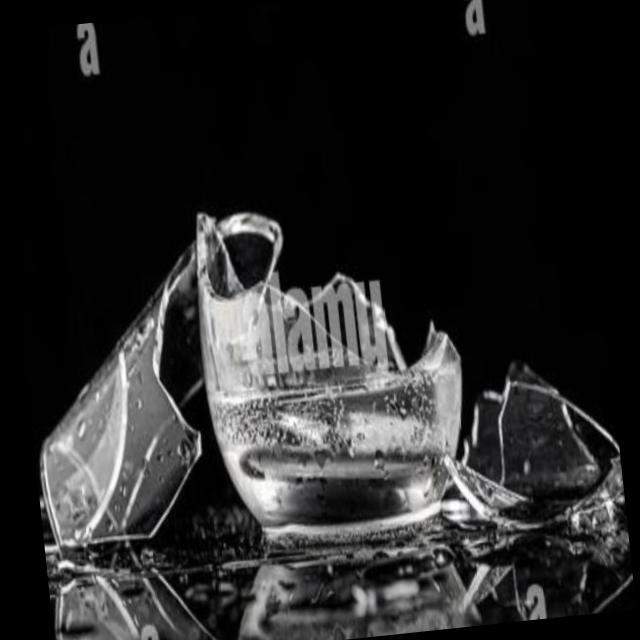PecahanKaca: (10, 167, 636, 640), (183, 183, 482, 557)
